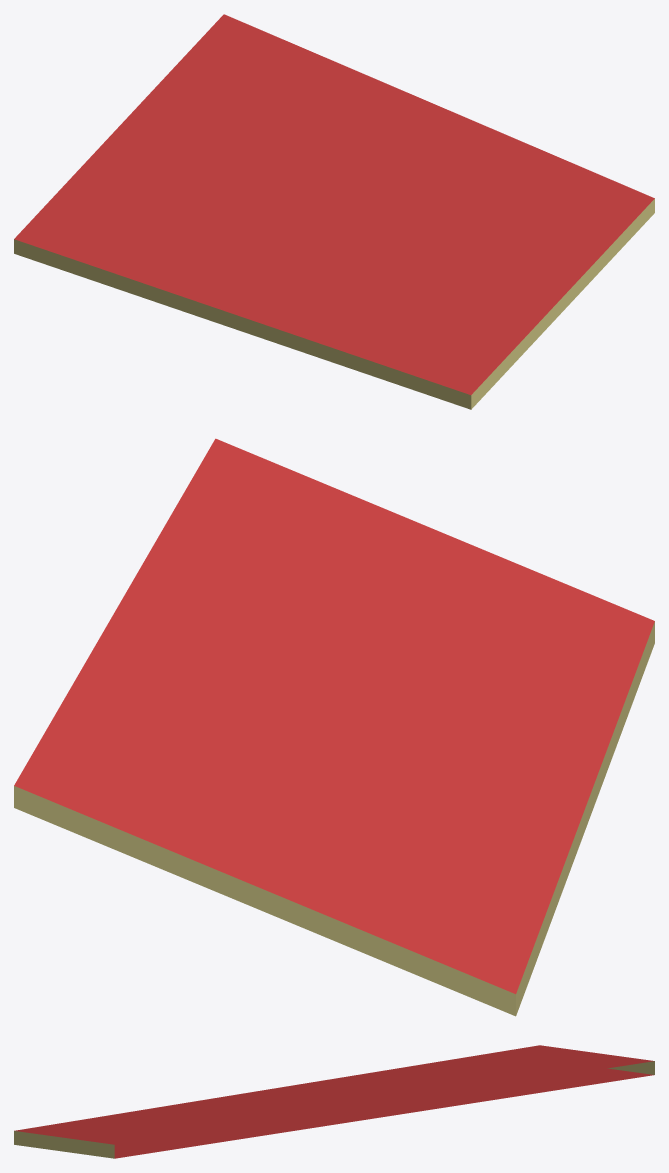
The picture shows the model from 3 angles, top to bottom: view 1: azimuth 30°, elevation 25°; view 2: azimuth 150°, elevation 25°; view 3: azimuth 270°, elevation 25°; orthographic projection. The views are drawn at different scales.
Size of the model in its own units: 3.01 by 4.16 by 0.891.
